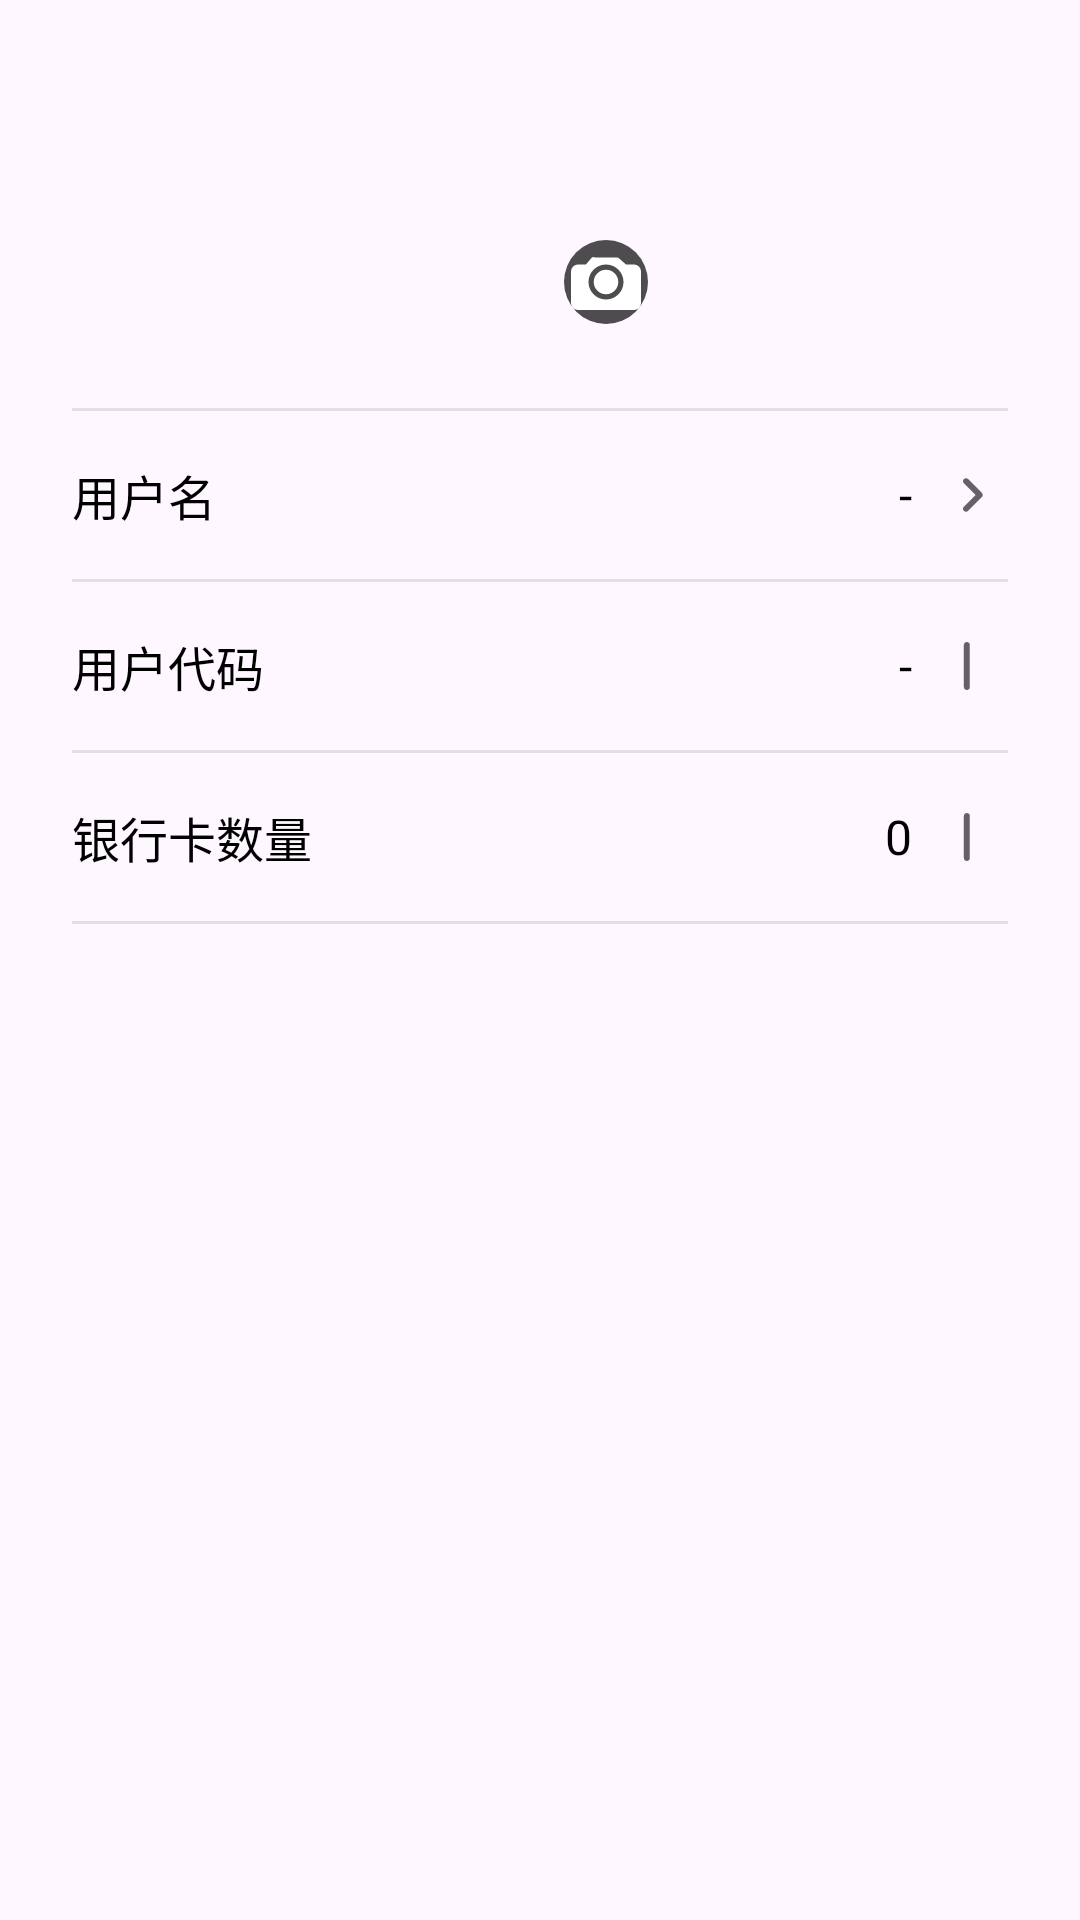

Screen size 1080 × 1920. Icon name, then its box in pixels as (x1, y1, x2, y2):
camera: (564, 240, 648, 324)
chevron right: (963, 478, 983, 512)
